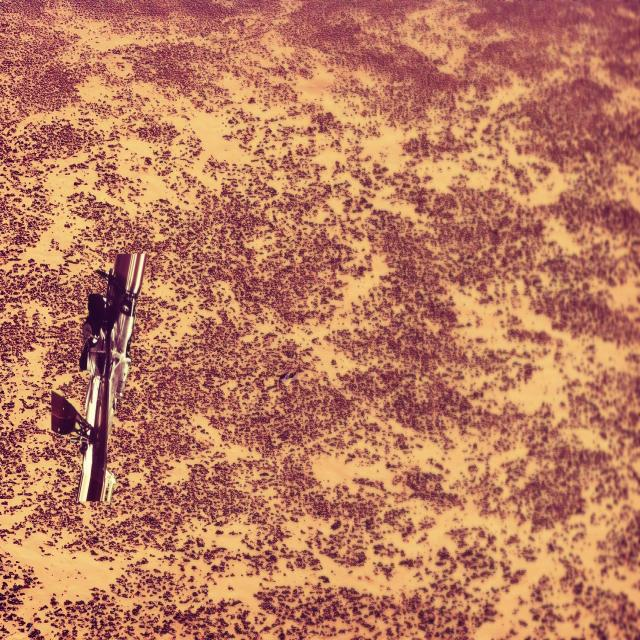airplane: (50, 250, 146, 506)
